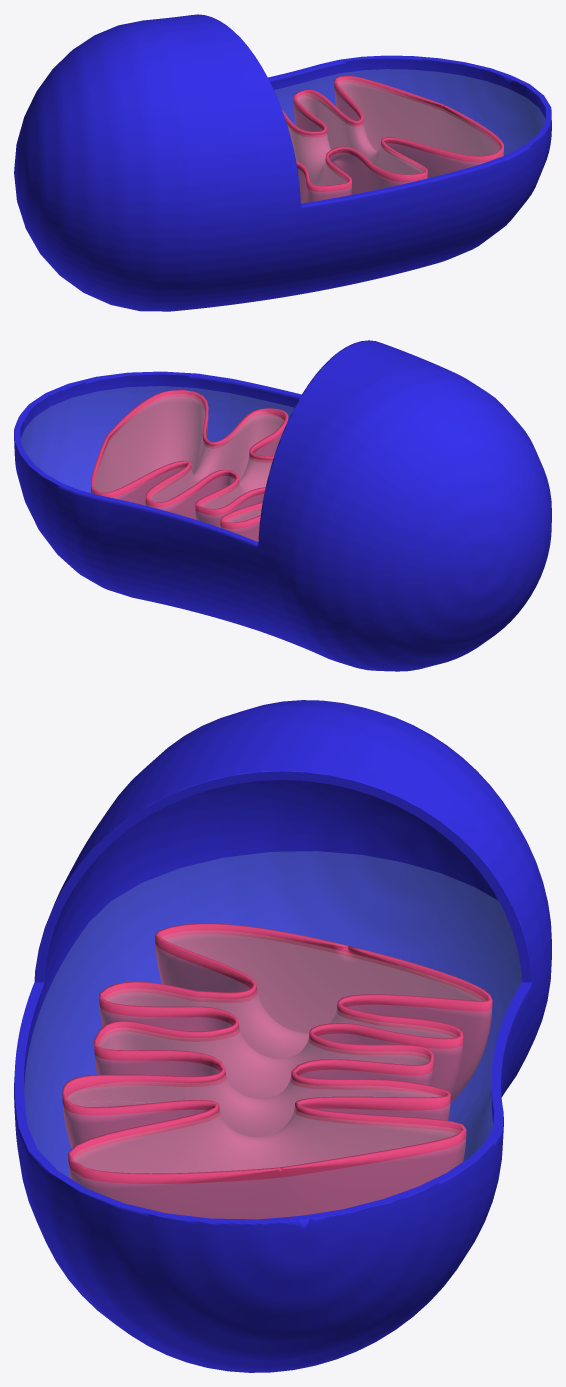
File: Mit.glb
The picture shows the model from 3 angles, top to bottom: view 1: azimuth 30°, elevation 25°; view 2: azimuth 150°, elevation 25°; view 3: azimuth 270°, elevation 25°; orthographic projection. The views are drawn at different scales.
Parts seen in each view (by area): view 1: Mithocondria exterior, MELiquid, Mithocondria interior, MiLiquid; view 2: Mithocondria exterior, MELiquid, Mithocondria interior, MiLiquid; view 3: Mithocondria exterior, MELiquid, Mithocondria interior, MiLiquid.
Boxes of the visible parts, x1=… form: Mithocondria exterior: x1=14, y1=14, x2=551, y2=311; MELiquid: x1=274, y1=69, x2=545, y2=203; Mithocondria interior: x1=282, y1=76, x2=503, y2=203; MiLiquid: x1=287, y1=80, x2=500, y2=185; Mithocondria exterior: x1=14, y1=340, x2=551, y2=671; MELiquid: x1=21, y1=386, x2=293, y2=541; Mithocondria interior: x1=91, y1=390, x2=288, y2=541; MiLiquid: x1=94, y1=394, x2=283, y2=522; Mithocondria exterior: x1=14, y1=700, x2=551, y2=1372; MELiquid: x1=24, y1=851, x2=521, y2=1218; Mithocondria interior: x1=62, y1=923, x2=492, y2=1219; MiLiquid: x1=67, y1=930, x2=486, y2=1173.
Size of the model in its own units: 0.399 by 0.208 by 0.2296.
